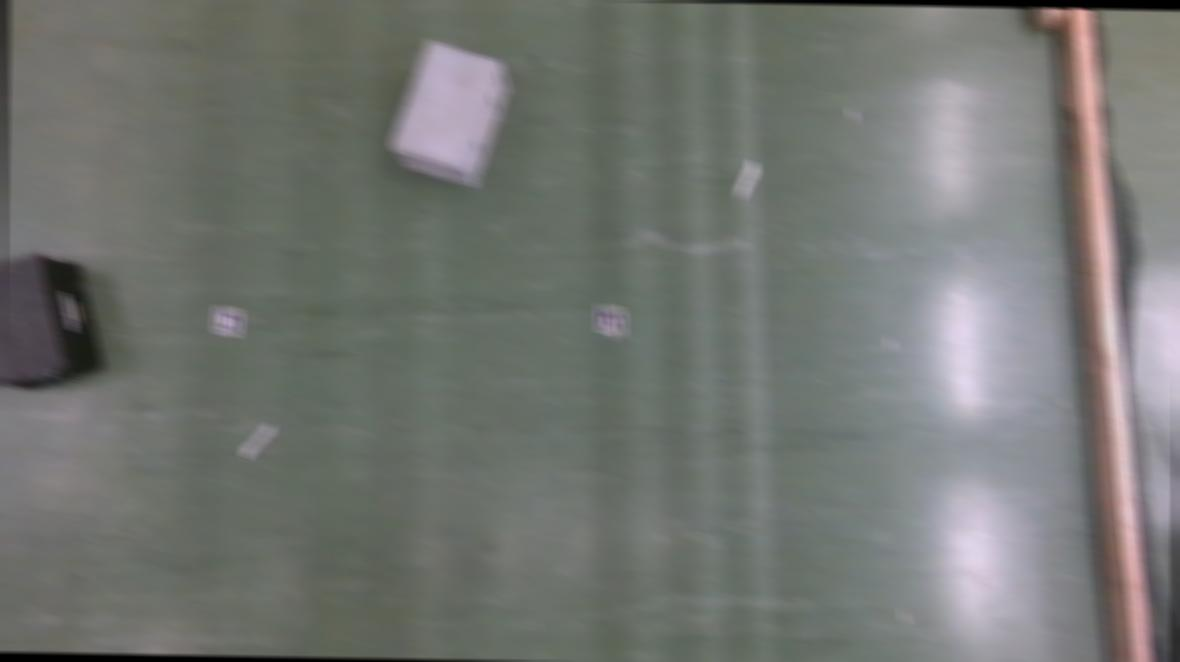probes: (243, 422, 275, 460), (736, 162, 758, 202)
rako: (390, 40, 512, 191), (0, 251, 105, 391)
